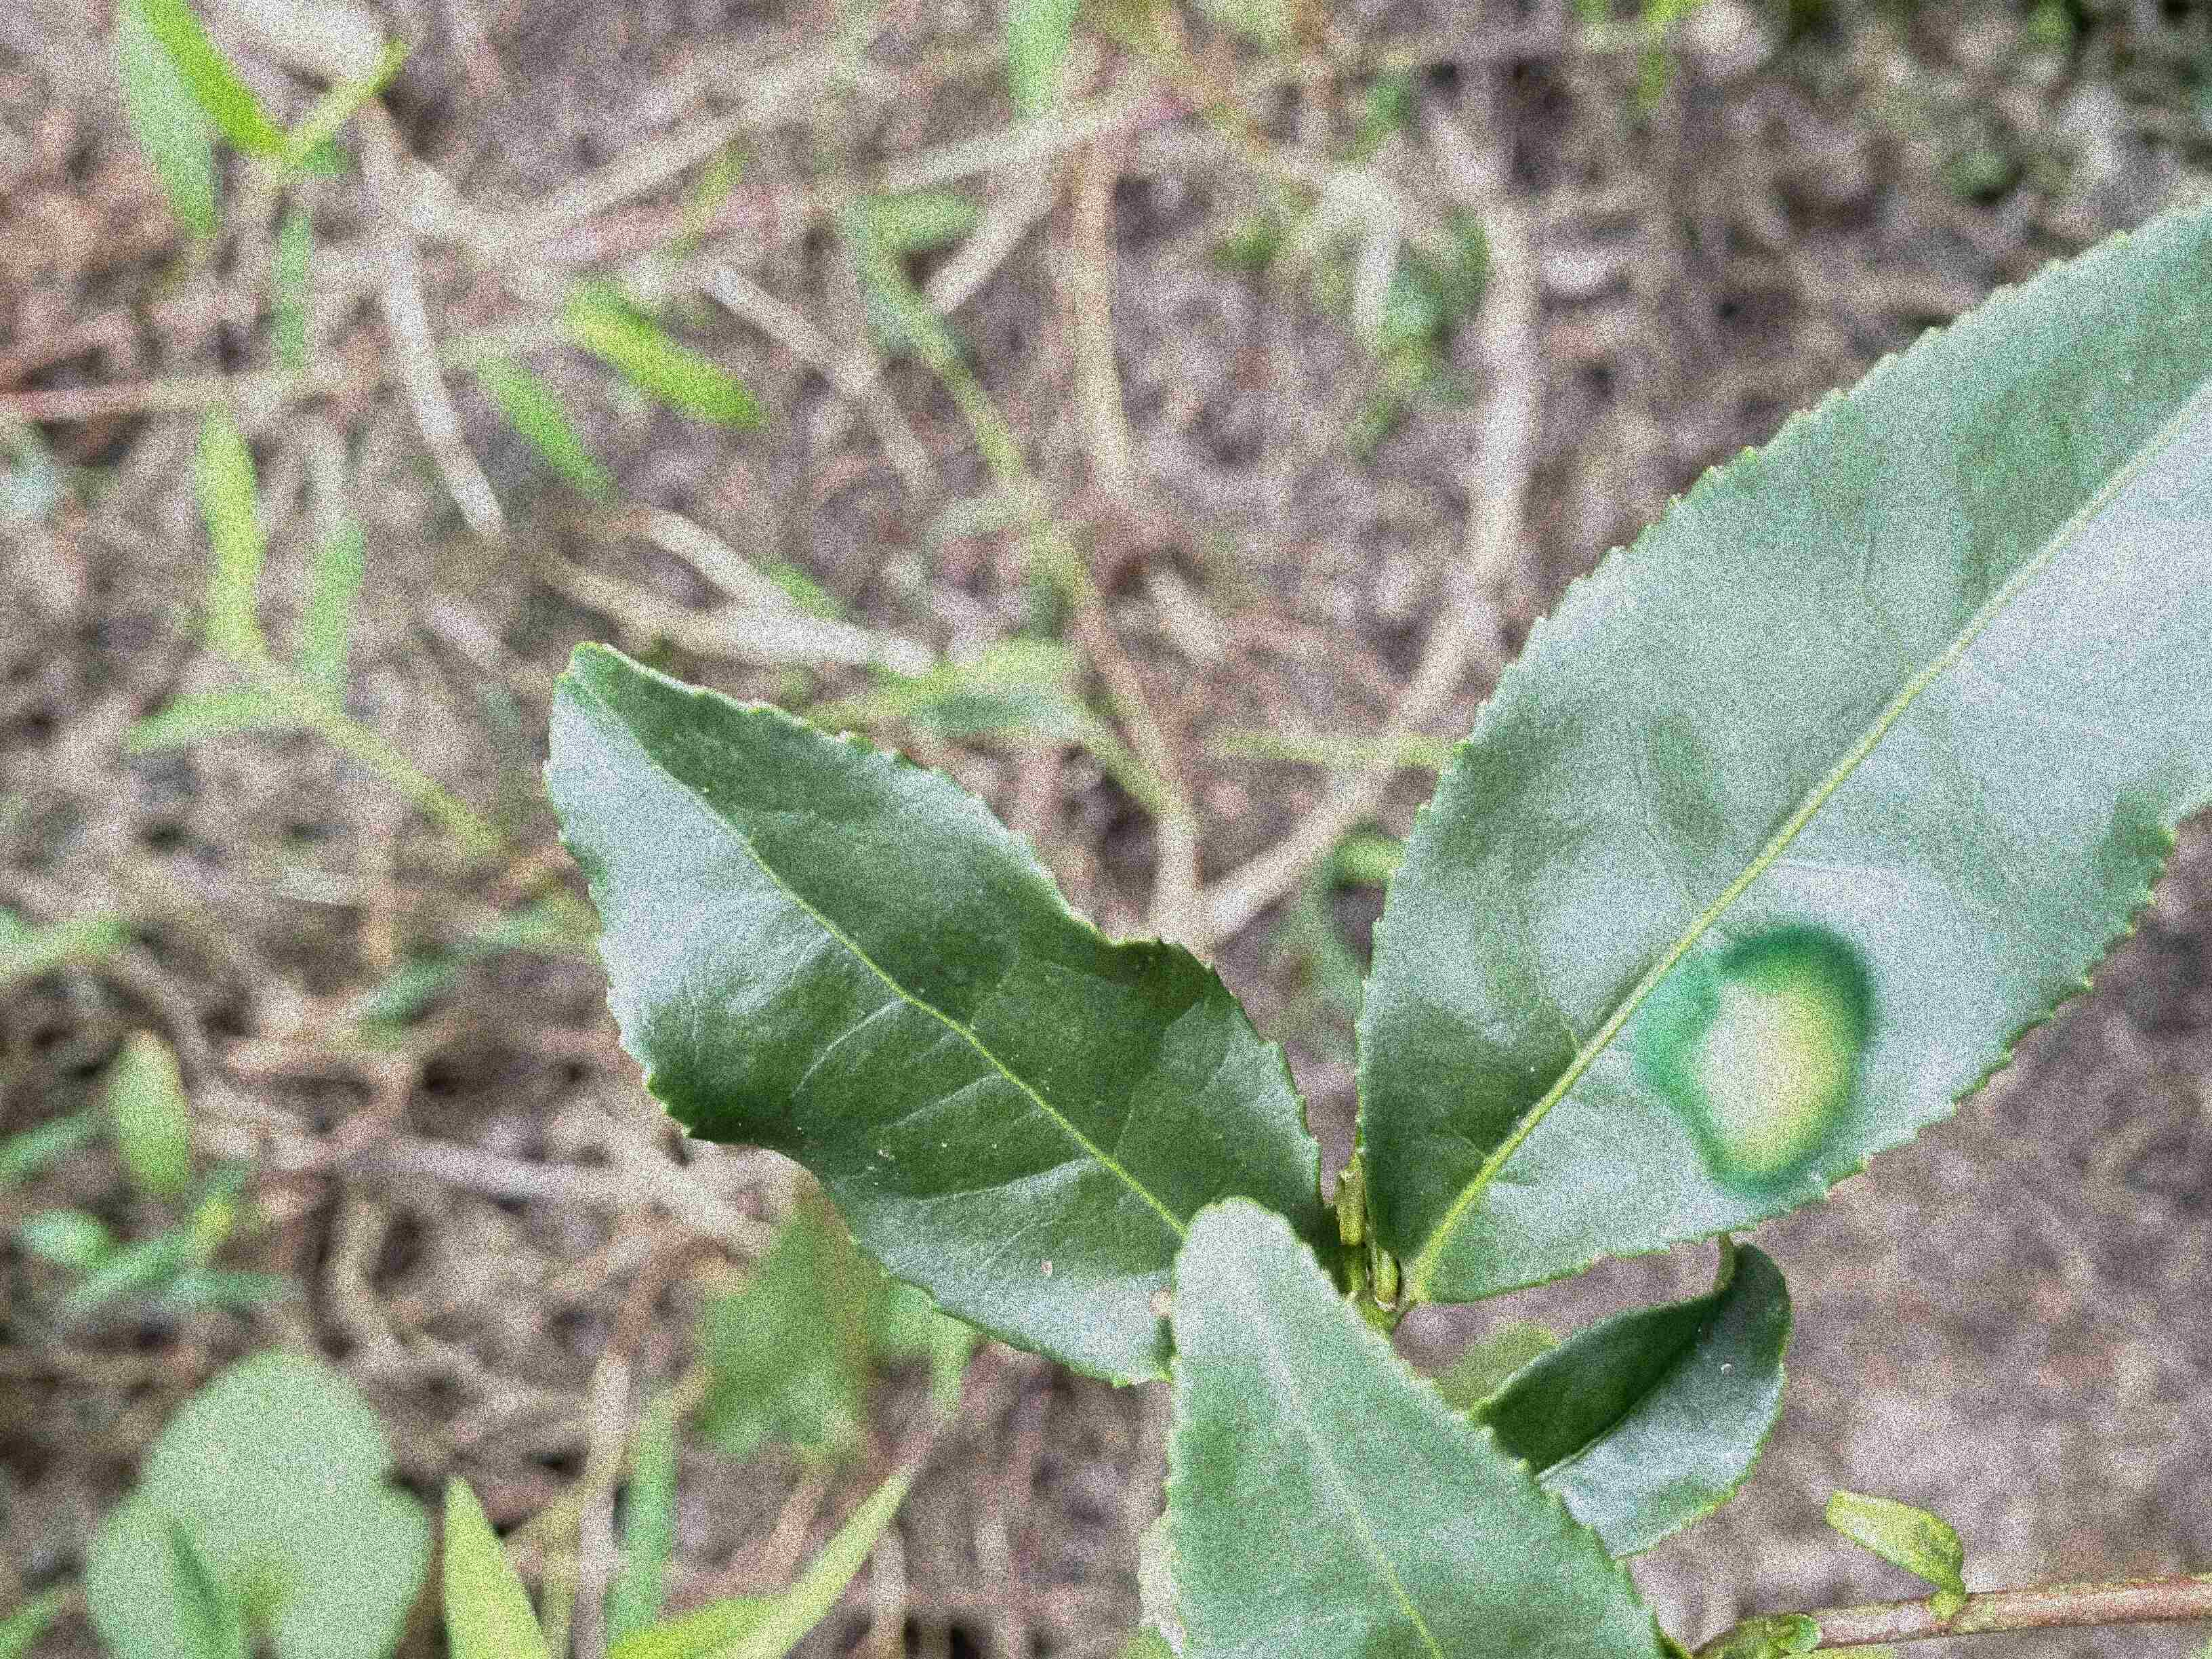chabing_low: (1357, 204, 2209, 1309)
tanju_low: (538, 638, 1329, 1387)
